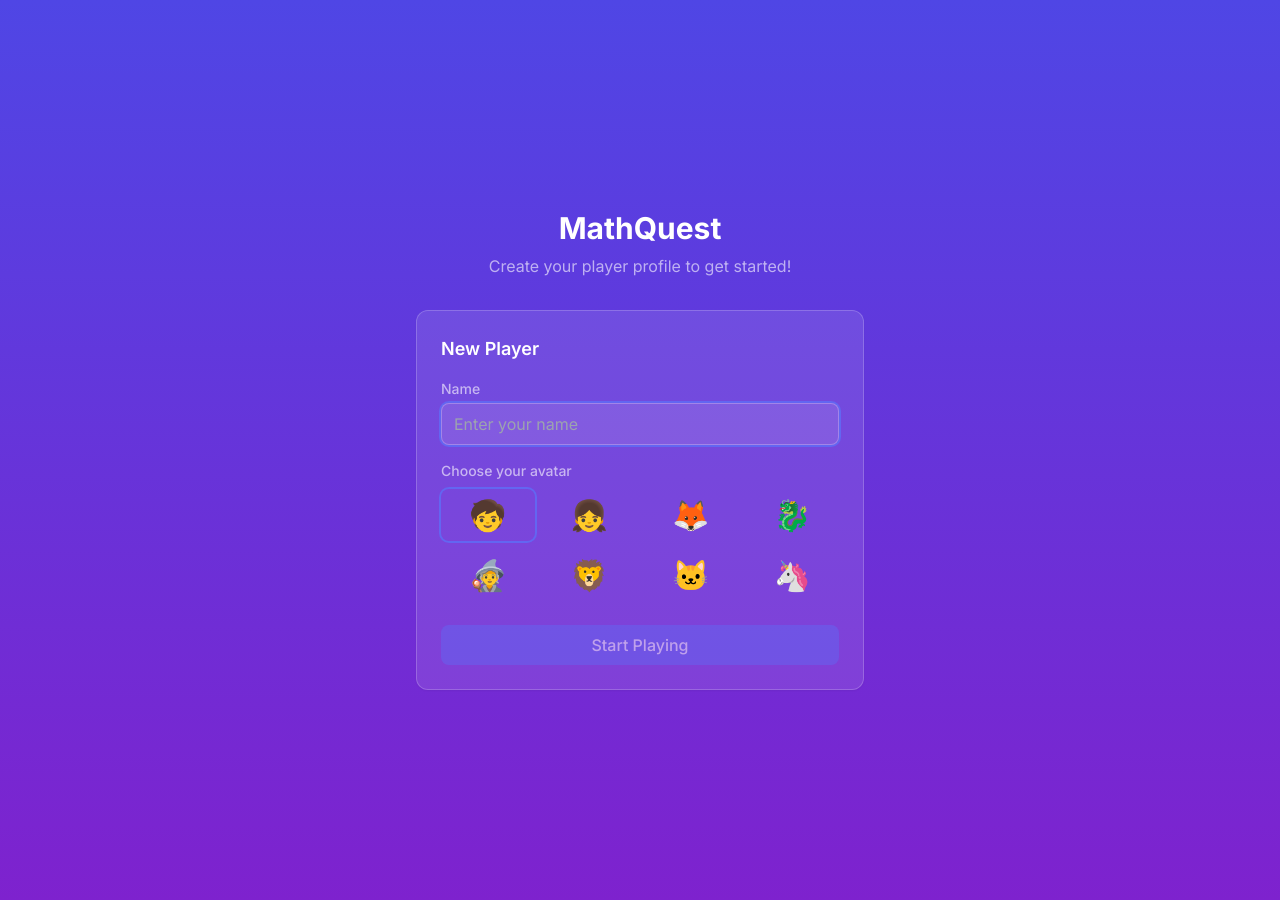
Scenario: ProfilePicker › no profiles state › should enable Start Playing button when name is entered
The width and height of the screenshot is (1280, 900).
Type "Alice" into the field labelled "Name". click: (640, 424)
box: [441, 403, 839, 445]
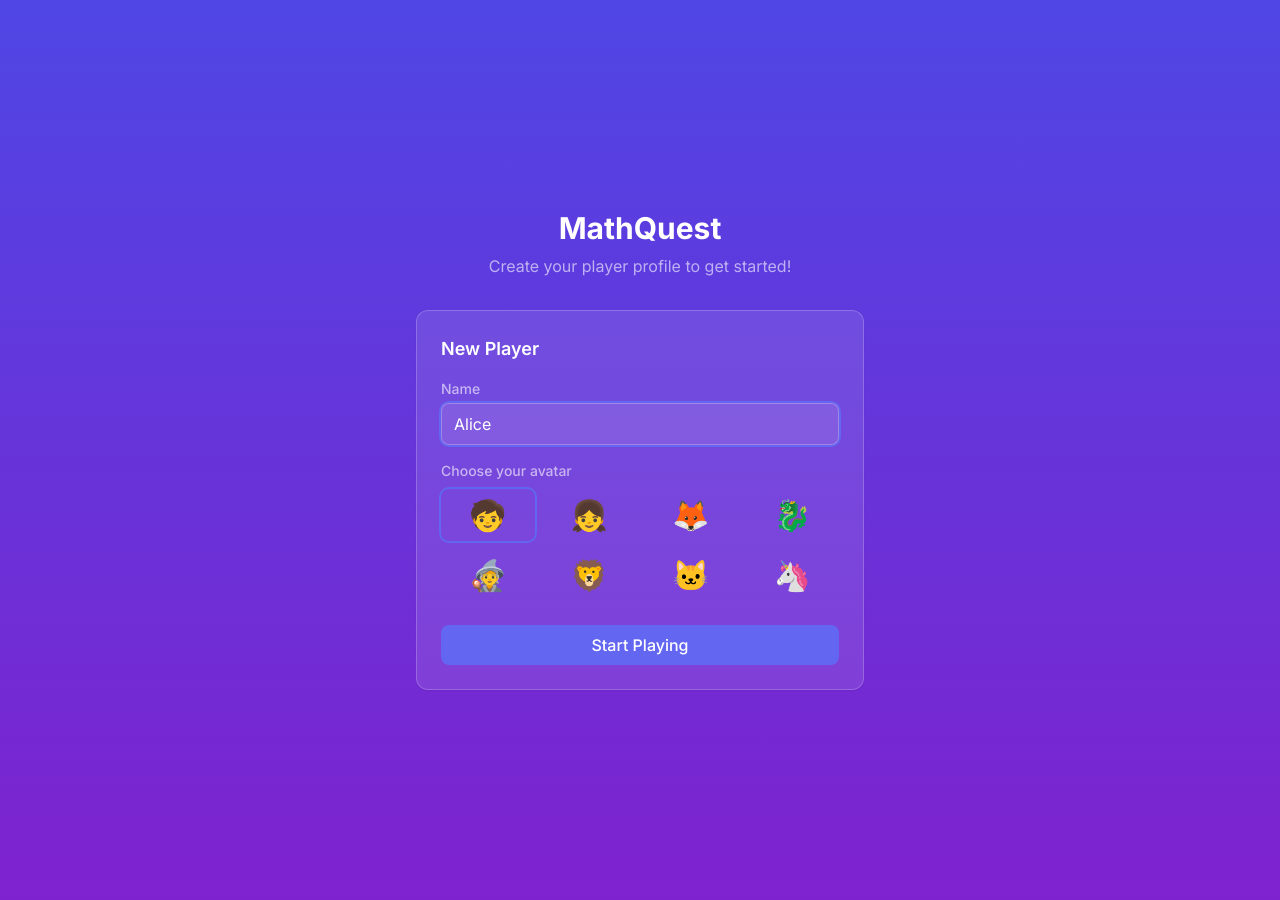
Expected: the button "Start Playing" is enabled, [441, 625, 839, 665]
